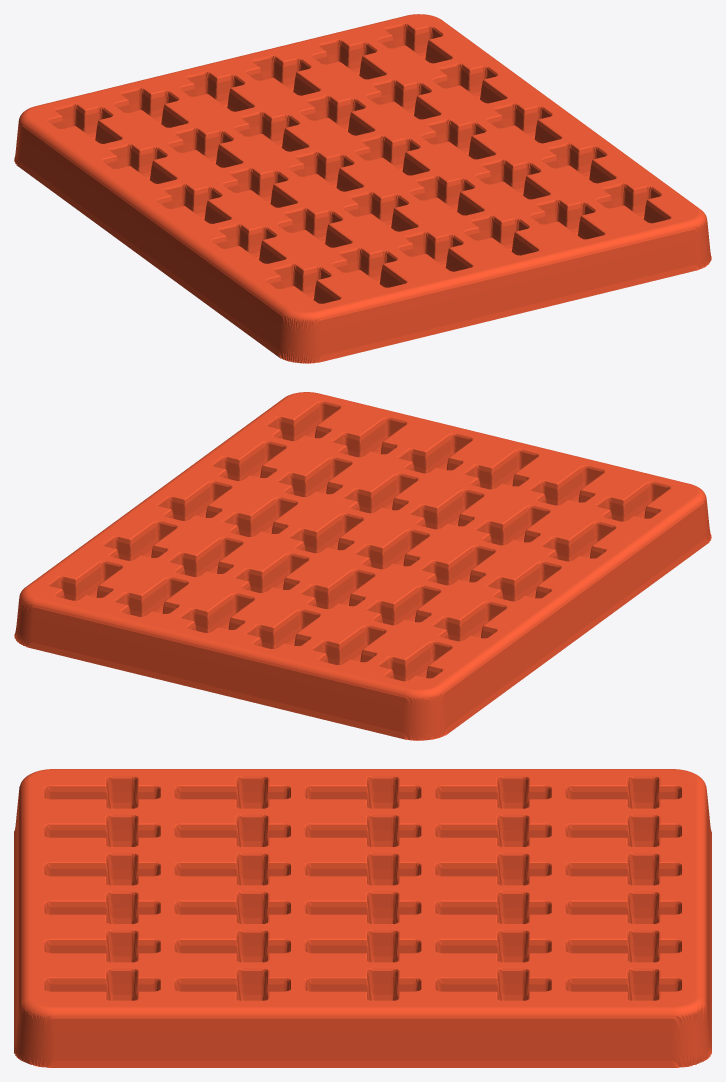
Rendered from mold.glb.
3 renders of one model, top to bottom at view 1: azimuth 30°, elevation 25°; view 2: azimuth 150°, elevation 25°; view 3: azimuth 270°, elevation 25°, orthographic. The views are drawn at different scales.
Visible parts, largest first — view 1: geometry_0; view 2: geometry_0; view 3: geometry_0.
Boxes of the visible parts, x1=… form: geometry_0: x1=14, y1=14, x2=711, y2=363; geometry_0: x1=14, y1=392, x2=711, y2=740; geometry_0: x1=14, y1=769, x2=711, y2=1067.
Bounding box in the file's own units: 0.1341 × 0.0136 × 0.1581.
